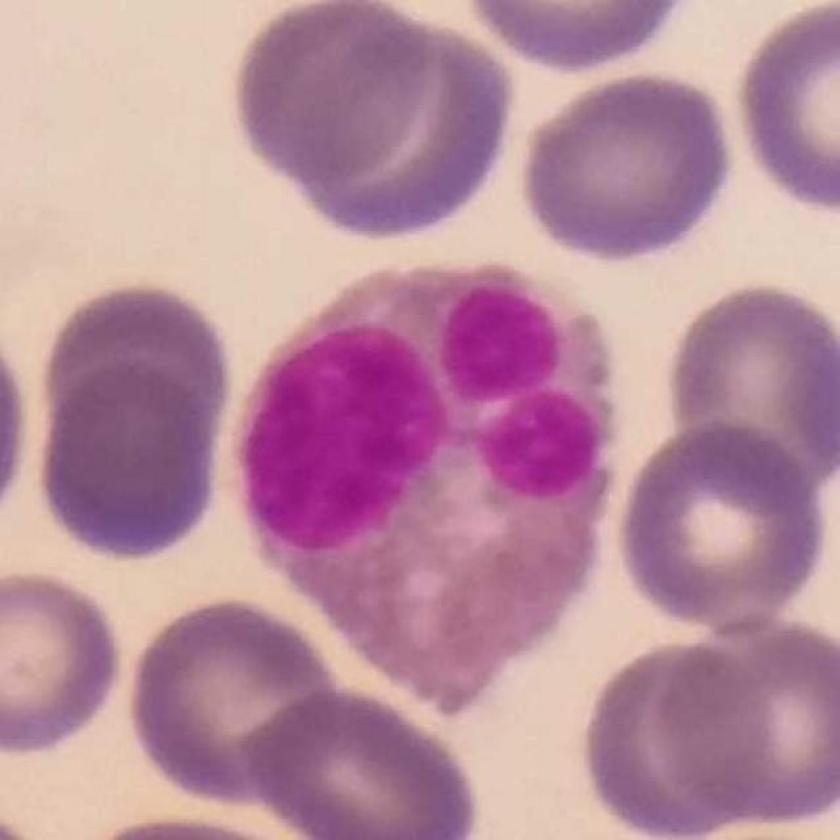eosinophil: (234, 261, 621, 719)
